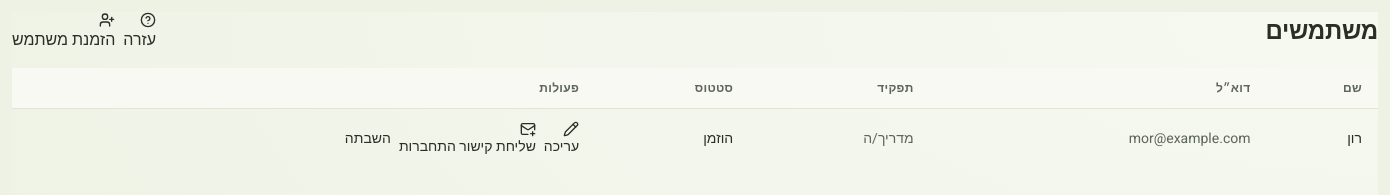
it: UsersArea › sends a new login link and confirms on success
What coordinates should you click on to do the following:
click the button "שליחת קישור התחברות"
I would click on:
 (467, 139)
Its box is [399,121,536,157].
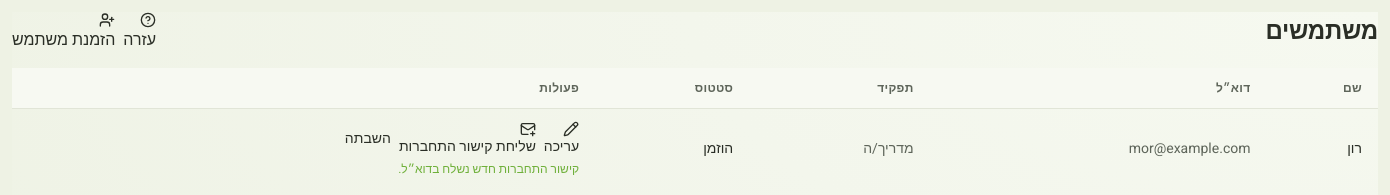
Check: the text "קישור התחברות חדש נשלח בדוא״ל." is shown, box [398,160,579,178]
